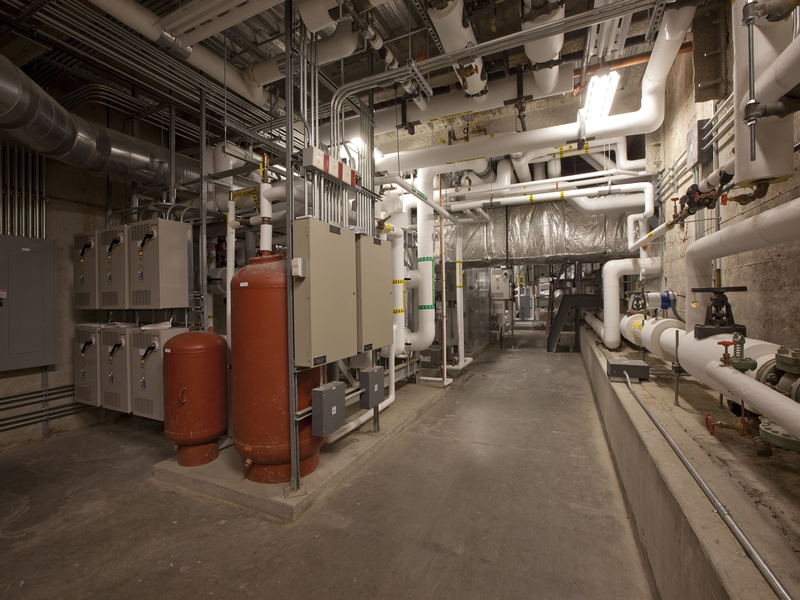valve: (256, 155, 272, 181)
